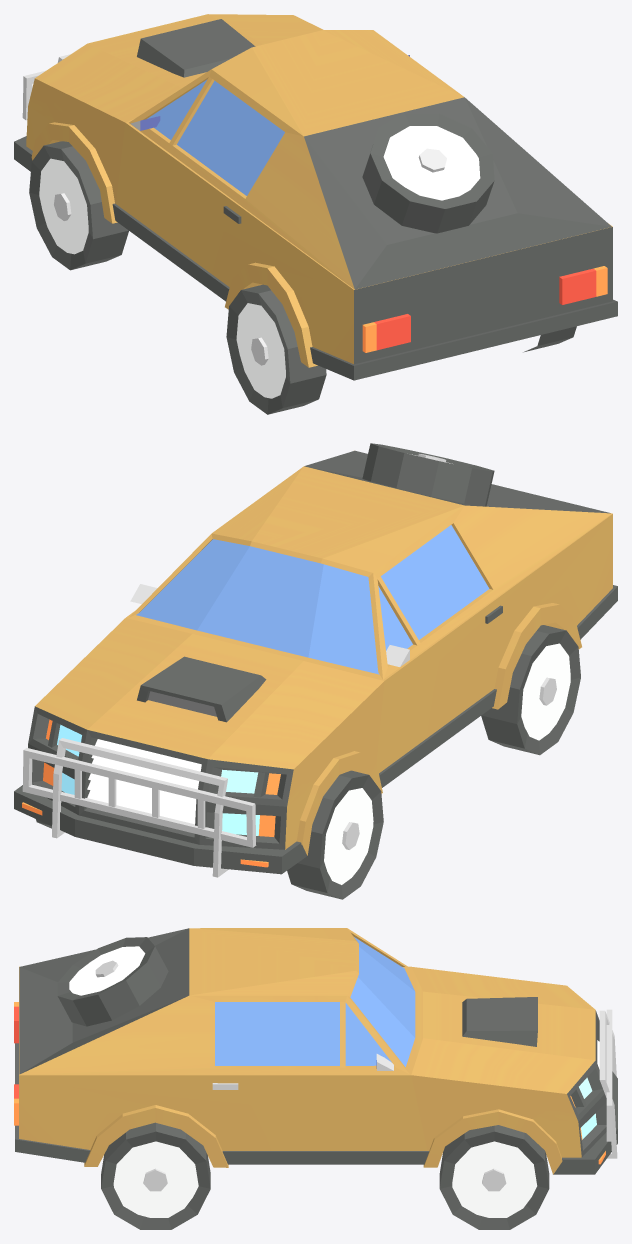
File: transport_jeep.003.glb
3 renders of one model, top to bottom at view 1: azimuth 30°, elevation 25°; view 2: azimuth 150°, elevation 25°; view 3: azimuth 270°, elevation 25°, orthographic. The views are drawn at different scales.
Visible parts, largest first — view 1: transport_jeep.003(Clone); view 2: transport_jeep.003(Clone); view 3: transport_jeep.003(Clone).
Boxes of the visible parts, box(x1,y1,x2,y2) form: transport_jeep.003(Clone): box(14, 14, 617, 414); transport_jeep.003(Clone): box(14, 443, 617, 899); transport_jeep.003(Clone): box(14, 928, 617, 1229).
Size of the model in its own units: 1.76 by 1.5 by 3.68.
1 material, 1 textured.
